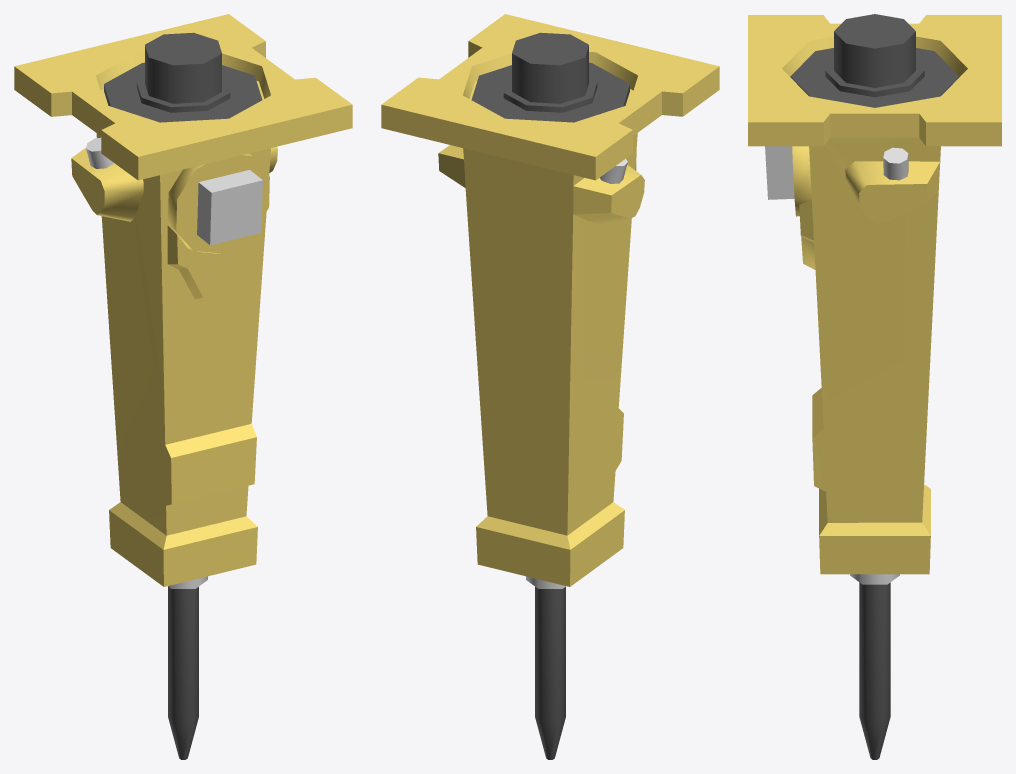
File: Breaker_SB_202_300_v.fbx
3 views of the same model, side by side, from view 1: azimuth 30°, elevation 25°; view 2: azimuth 150°, elevation 25°; view 3: azimuth 270°, elevation 25° (orthographic). The views are drawn at different scales.
Visible parts, largest first — view 1: SB_202; view 2: SB_202; view 3: SB_202.
Part boxes in pixels (x1,y1,x2,y2): SB_202: (14,14,352,759); SB_202: (381,14,719,759); SB_202: (748,14,1001,759).
Size of the model in its own units: 50 by 158 by 50.
